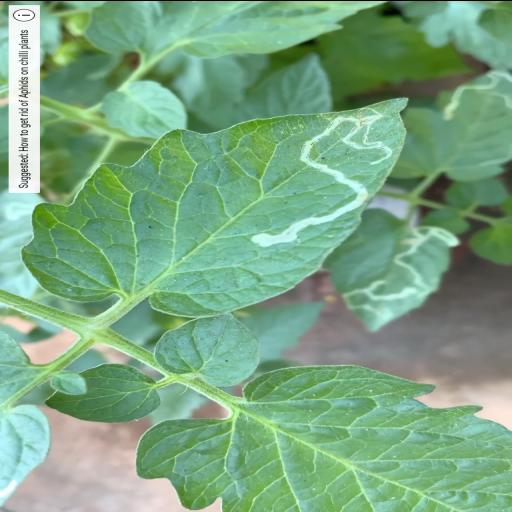disease_tomato: (18, 96, 410, 319), (322, 207, 460, 333), (388, 66, 512, 180)
